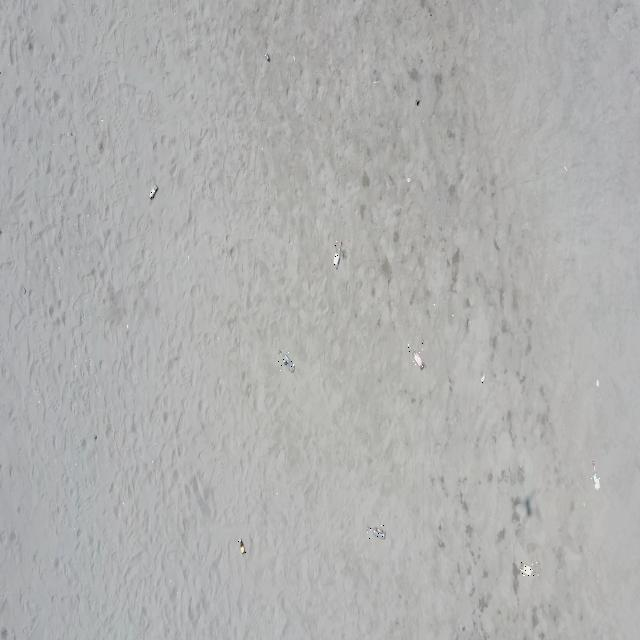glass: (408, 343, 424, 370), (278, 349, 294, 374), (518, 562, 538, 577), (591, 462, 600, 494), (367, 525, 386, 539), (333, 242, 342, 268), (238, 538, 246, 554), (149, 184, 157, 200), (481, 374, 486, 384), (265, 54, 270, 61)
